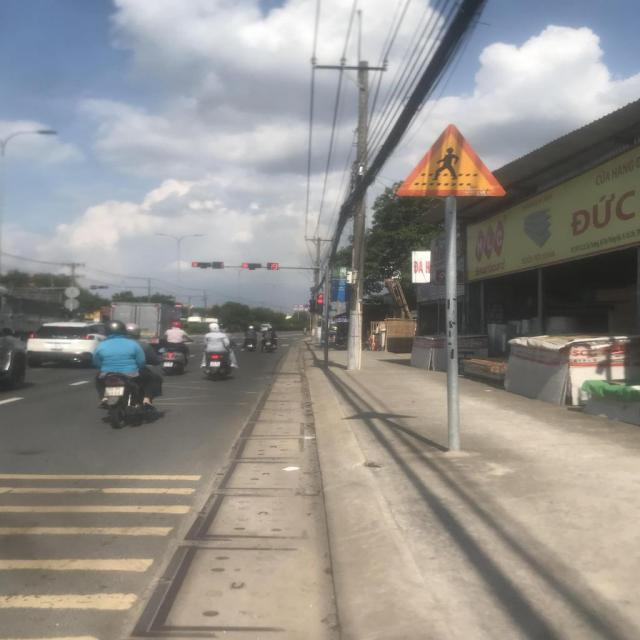cam_dung_xe_va_do_xe: (304, 304, 309, 308)
cam_xe_2_banh_va_xe_3_banh_co_dong_co: (304, 308, 309, 312)
cam_xe_di_nguoc_chieu: (174, 303, 183, 308)
chu_y_nguoi_di_bo_cat_ngang: (393, 123, 508, 198)
khac: (300, 308, 304, 310), (294, 308, 298, 310), (294, 310, 298, 311), (299, 310, 303, 311)
toc_do_toi_da_60: (299, 304, 304, 308)
toc_do_toi_da_80: (294, 304, 298, 308)
